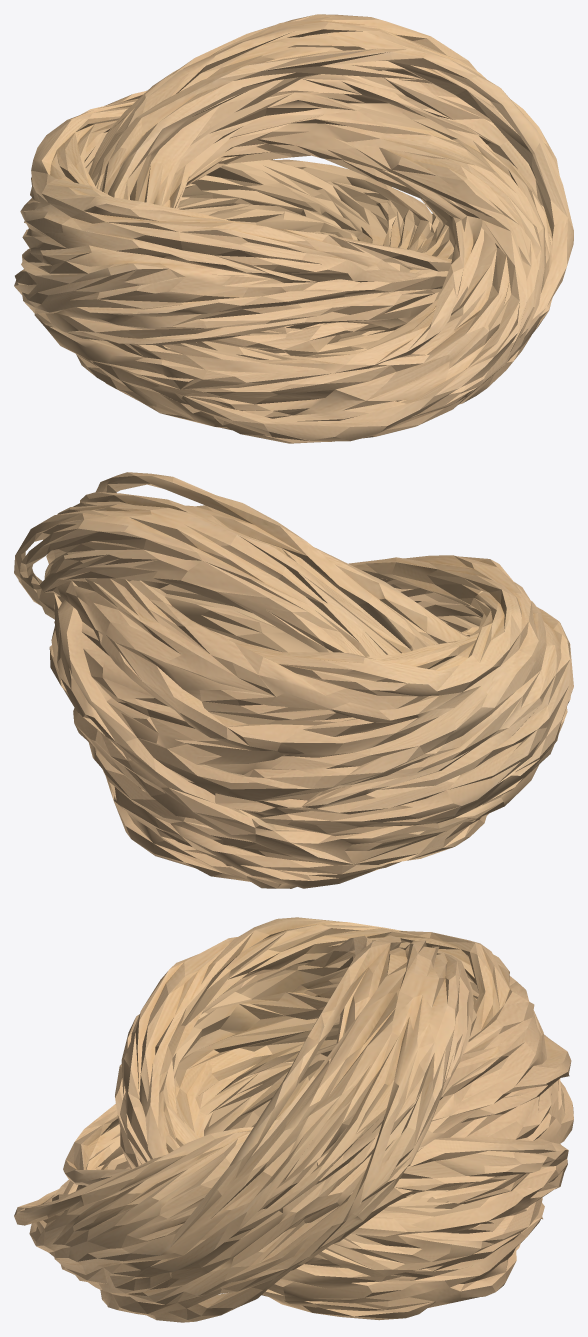
The model's file is ITM_RAW_SILK_001.glb.
3 renders of one model, top to bottom at view 1: azimuth 30°, elevation 25°; view 2: azimuth 150°, elevation 25°; view 3: azimuth 270°, elevation 25°, orthographic. The views are drawn at different scales.
Size of the model in its own units: 1.9 by 1.09 by 1.7.
Materials: 1 (1 with a texture image).
